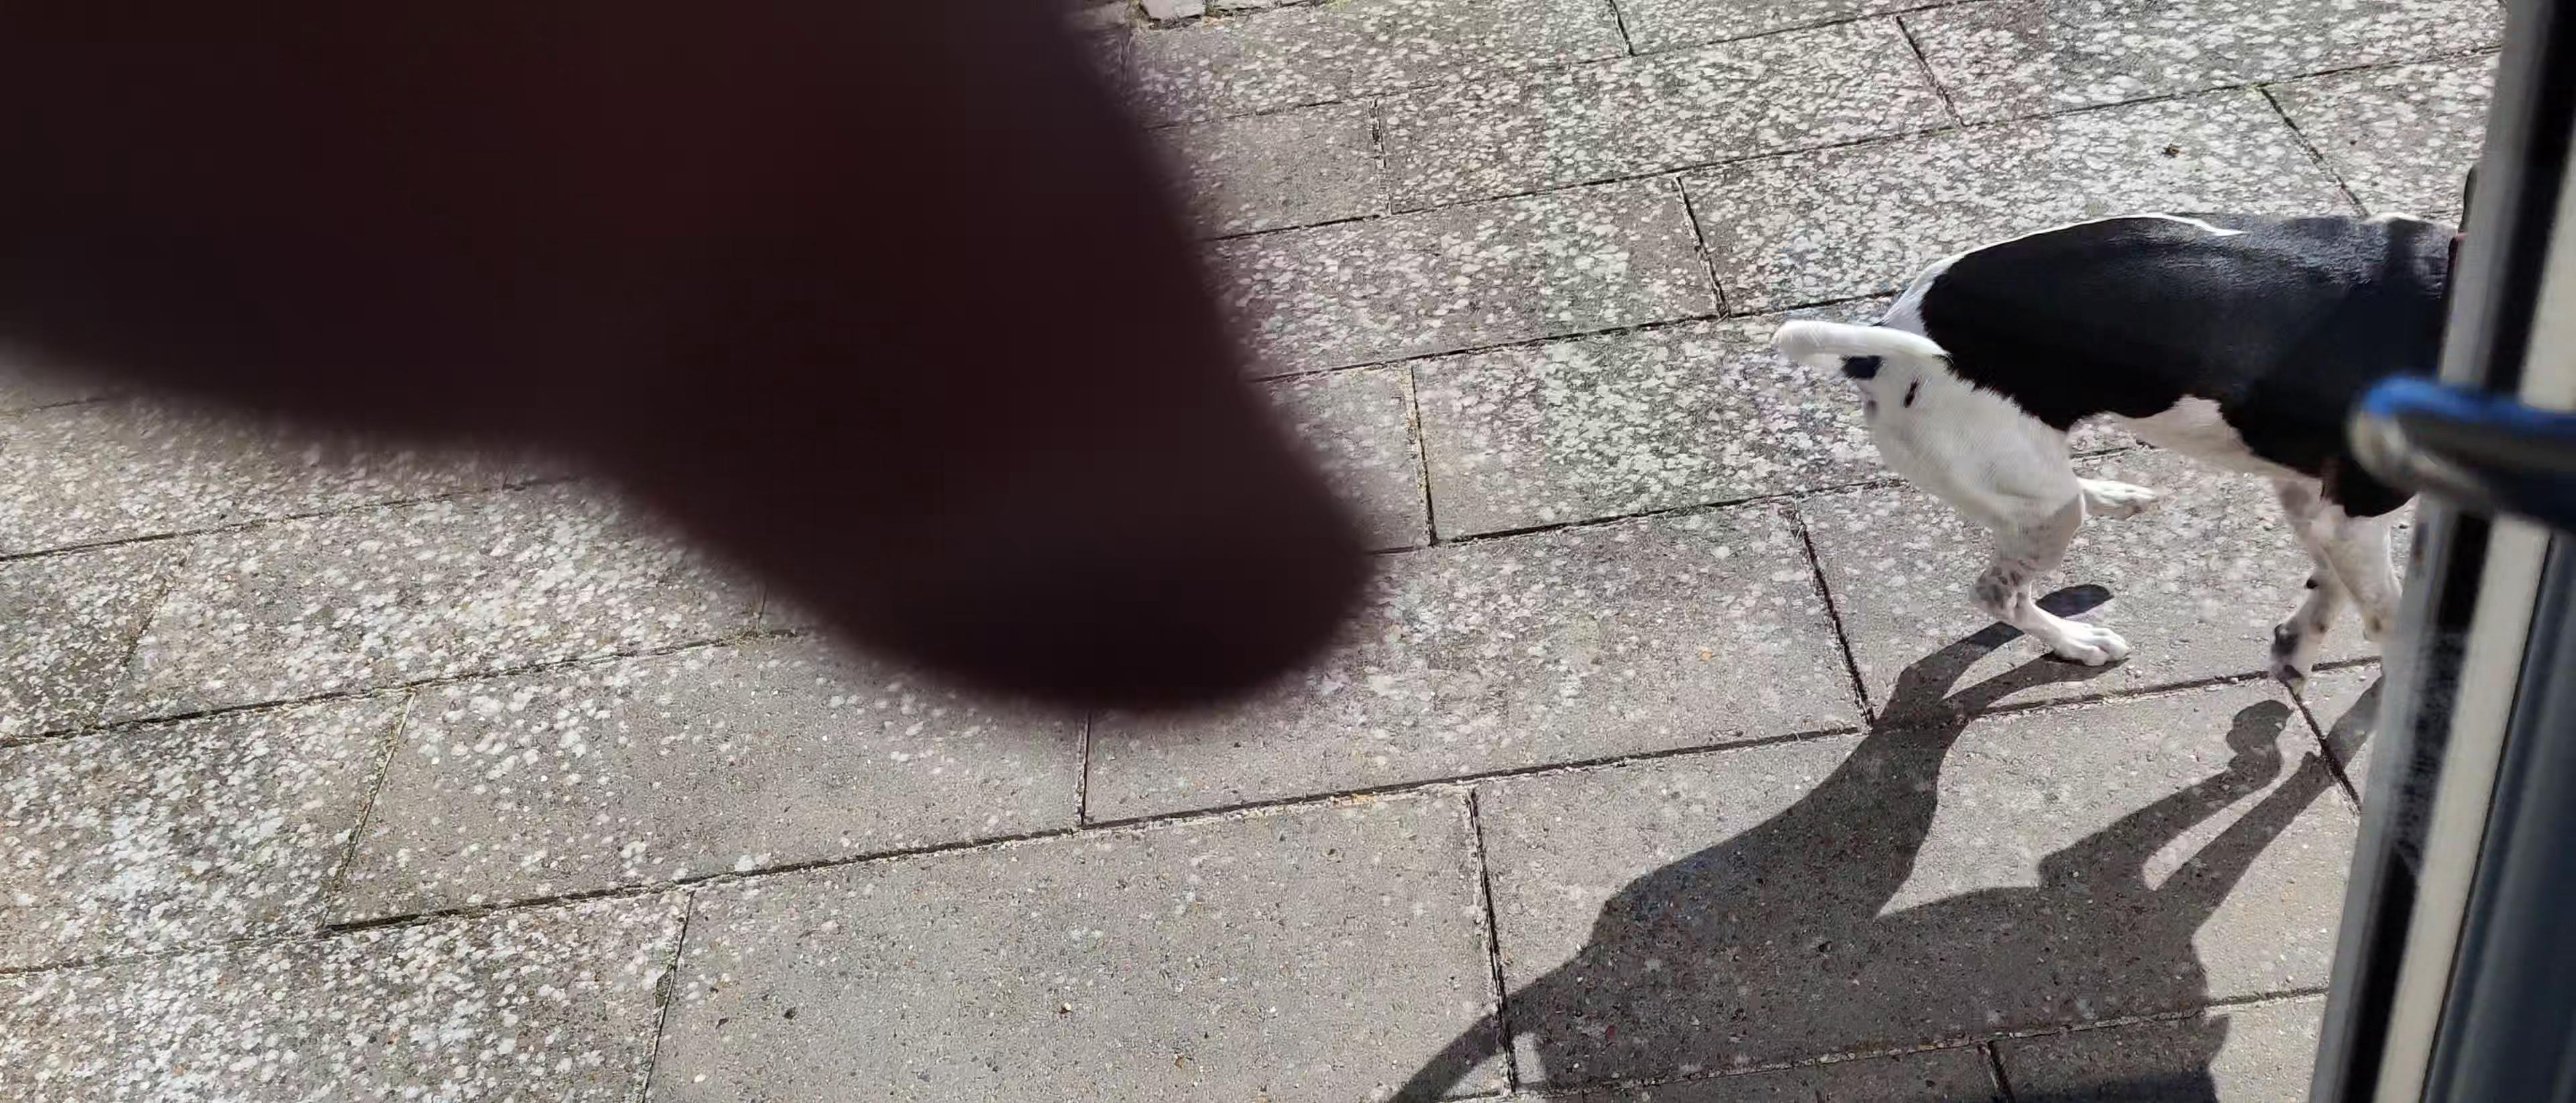Dog: (1756, 207, 2461, 690)
